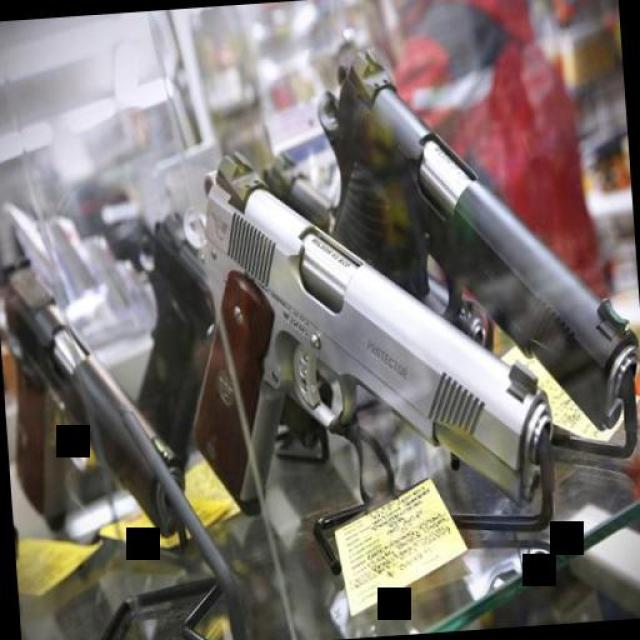gun: (135, 125, 560, 530), (297, 19, 640, 442), (0, 225, 244, 613)
